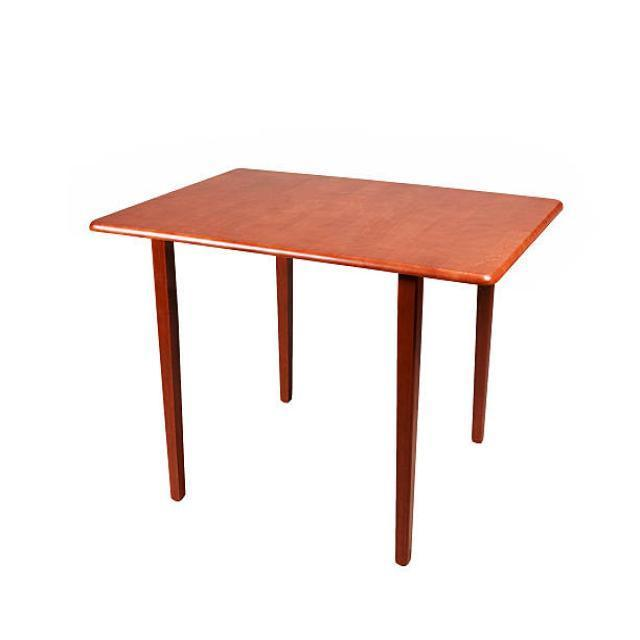table: (88, 165, 564, 565)
